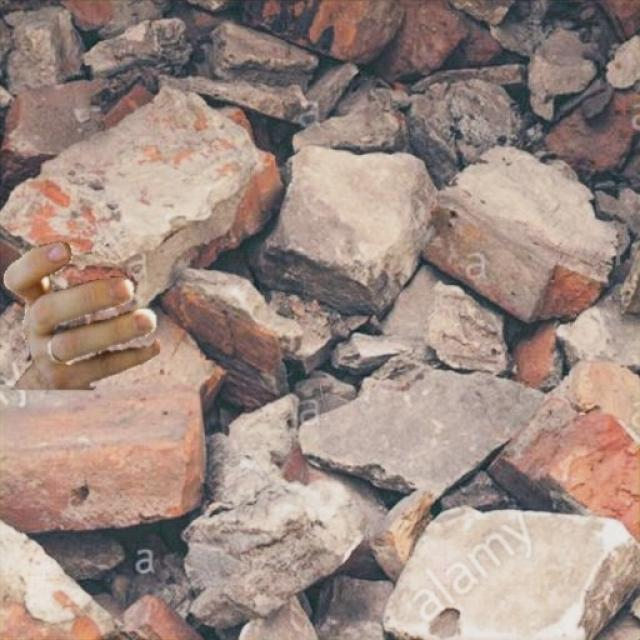Person in Rubble: (3, 241, 158, 389)
